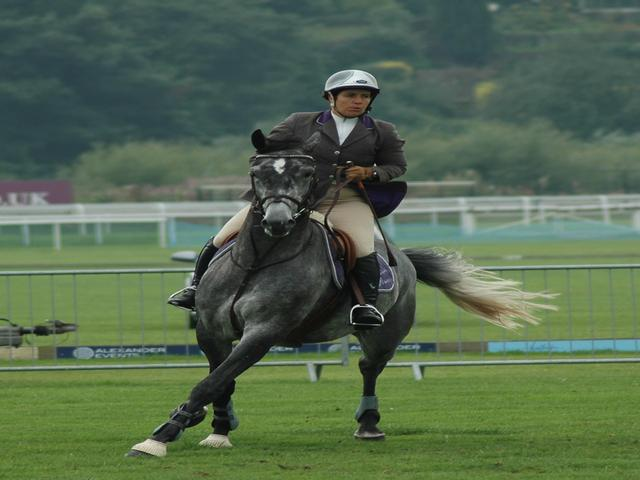horse: (159, 120, 473, 480)
